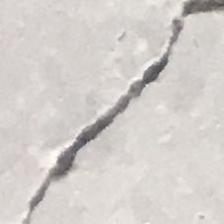Crack: (2, 0, 224, 222)
